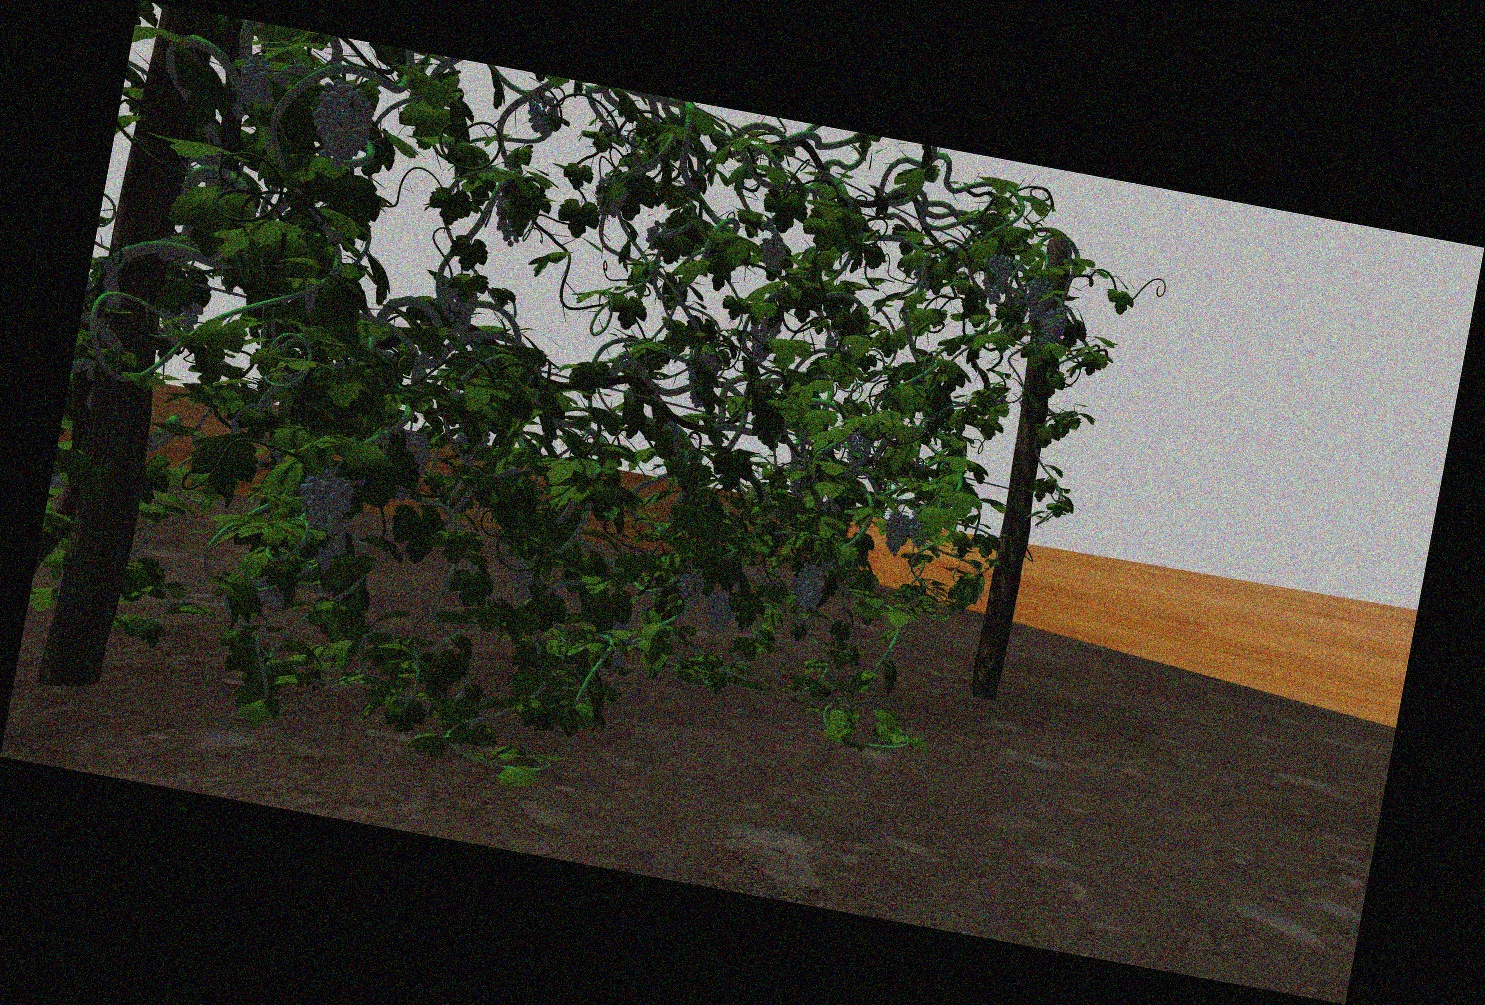grape: (315, 81, 372, 168), (233, 56, 292, 116), (299, 471, 352, 536), (439, 279, 477, 332), (983, 253, 1012, 305), (795, 564, 824, 616), (526, 93, 562, 133), (747, 319, 778, 365), (400, 432, 431, 477), (705, 591, 734, 637), (762, 232, 788, 274), (1026, 278, 1053, 319), (885, 511, 908, 556), (846, 428, 873, 468), (252, 578, 284, 608), (677, 571, 705, 605), (1040, 310, 1067, 343), (319, 540, 345, 573), (511, 561, 535, 599), (645, 220, 672, 252), (908, 519, 930, 546)
